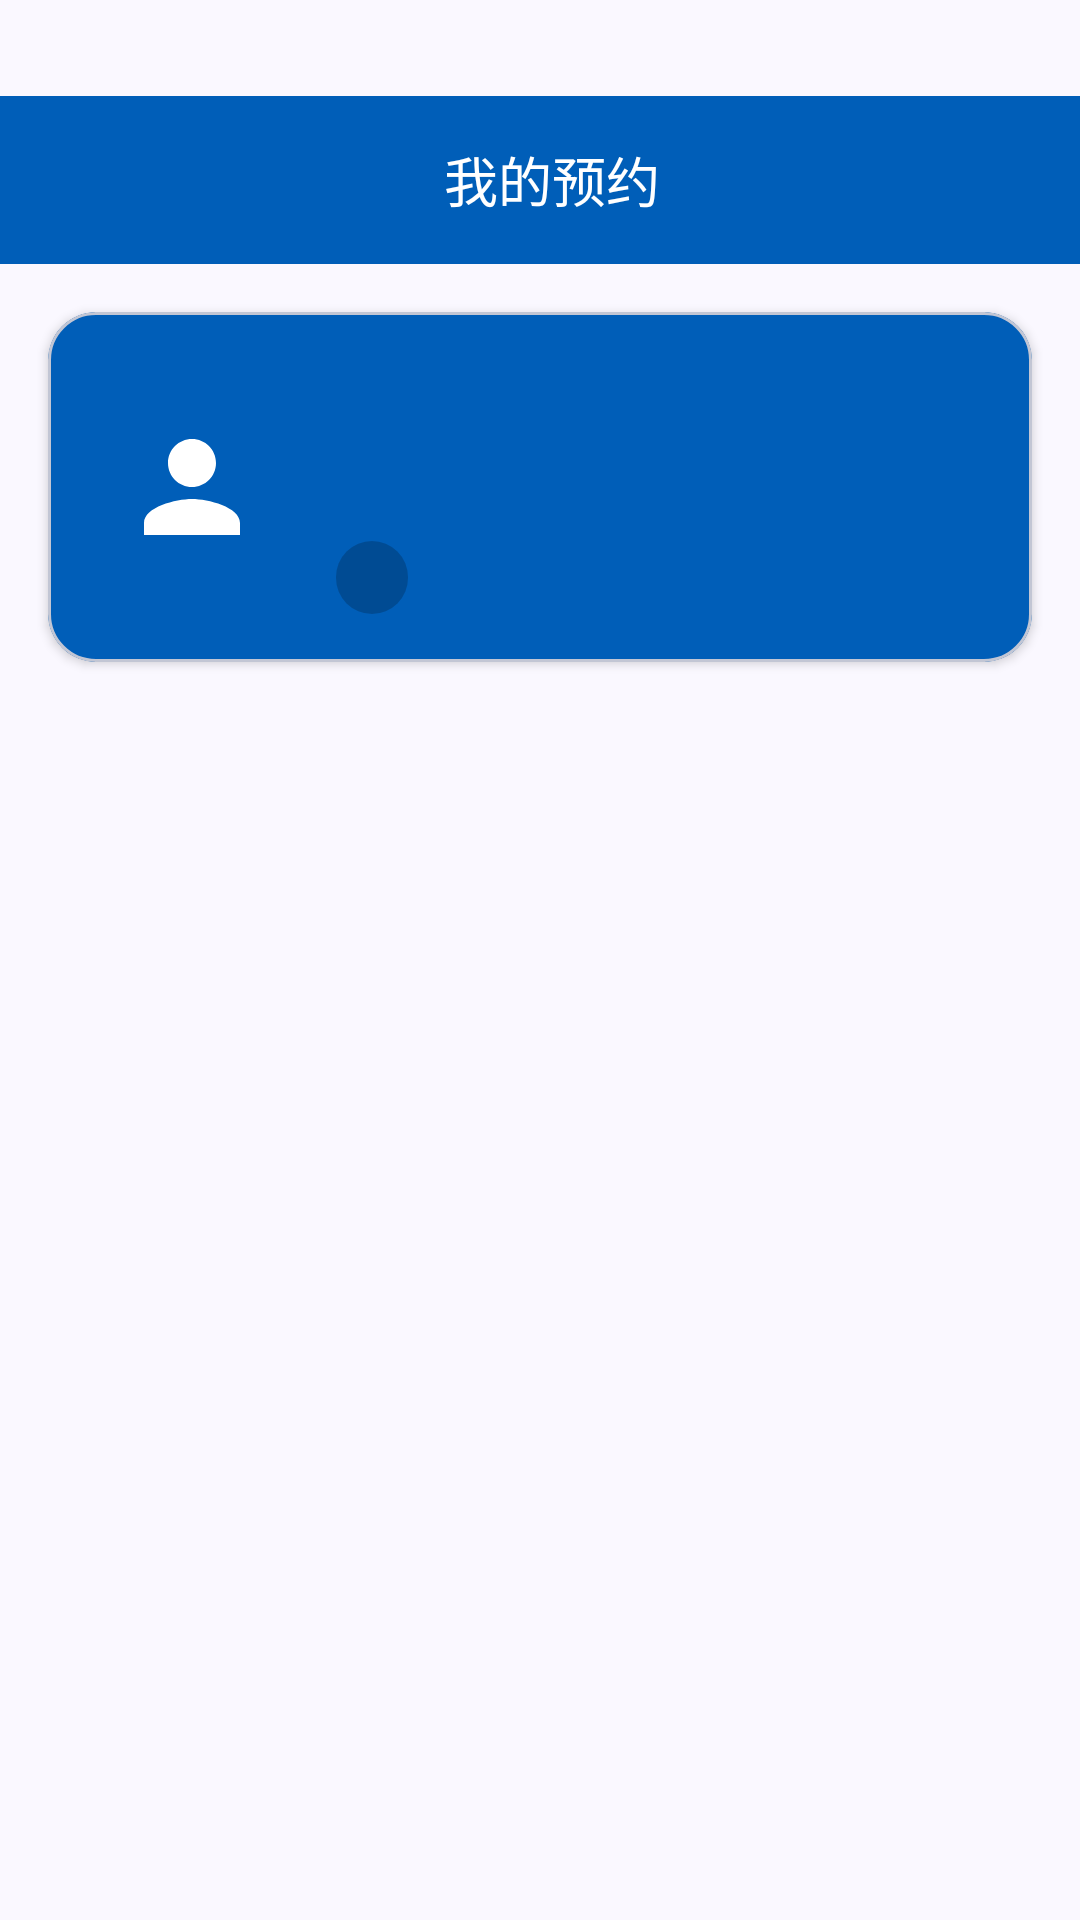

Screen size 1080 × 1920. Icon name, then its center in pixels as (x,y):
home profile: (192,487)
